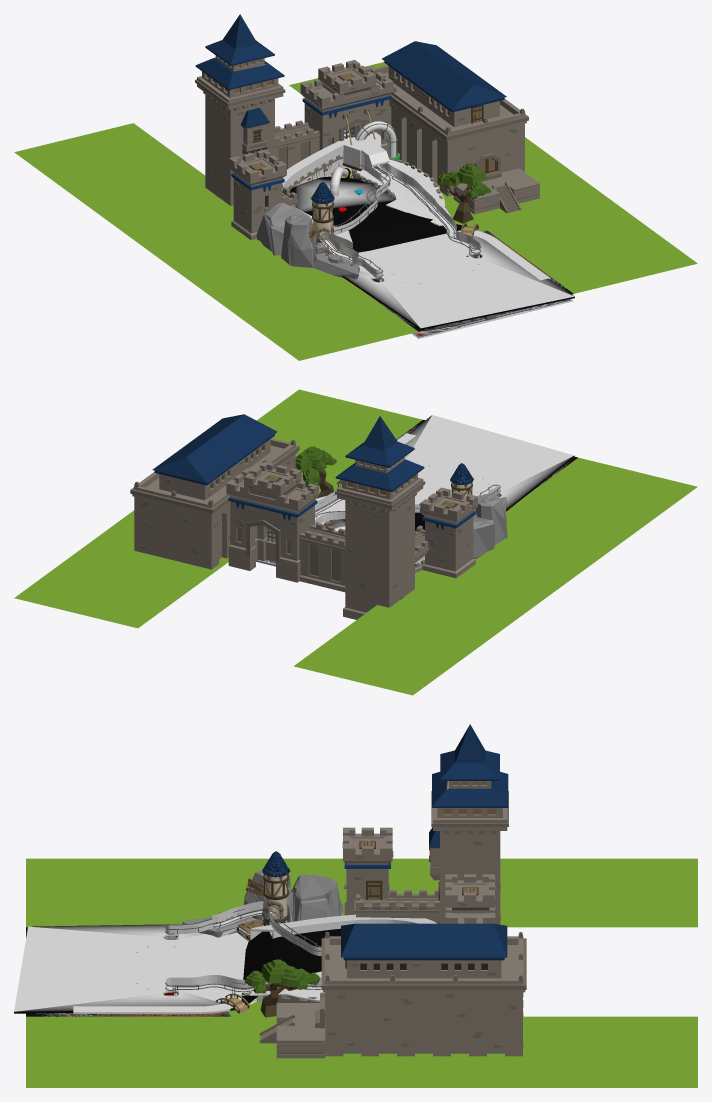
File: Pinball.glb
3 renders of one model, top to bottom at view 1: azimuth 30°, elevation 25°; view 2: azimuth 150°, elevation 25°; view 3: azimuth 270°, elevation 25°, orthographic. The views are drawn at different scales.
Parts seen in each view (by area): view 1: visual_field, visual_castle, coll_glass_panel.001, visual_mine, coll_ramp_back_test, coll_faquir_glass_panel.001, coll_visual_habit_right_9_top, visual_tree, coll_visual_habit_right_left_9_top.002, visual_playfield_left_hole, coll_sidewalls.001, visual_habit_right_left_9_top.002 (+3 smaller); view 2: visual_field, visual_castle, coll_glass_panel.001, visual_mine, visual_tree; view 3: visual_field, visual_castle, coll_glass_panel.001, visual_mine, visual_tree, coll_ramp_back_test, coll_visual_habit_right_left_9_top.002, coll_sidewalls.001, coll_visual_habit_right_9_top, visual_standard, visual_habit_right_left_9_top.002.
Boxes of the visible parts, <box> form: visual_field: <box>14,62,697,360</box>; visual_castle: <box>195,14,539,239</box>; coll_glass_panel.001: <box>290,176,574,329</box>; visual_mine: <box>256,182,359,279</box>; coll_ramp_back_test: <box>282,132,389,248</box>; coll_faquir_glass_panel.001: <box>357,159,450,226</box>; coll_visual_habit_right_9_top: <box>372,163,480,250</box>; visual_tree: <box>438,163,491,223</box>; coll_visual_habit_right_left_9_top.002: <box>320,152,389,276</box>; visual_playfield_left_hole: <box>336,195,573,338</box>; coll_sidewalls.001: <box>457,230,550,280</box>; visual_habit_right_left_9_top.002: <box>319,165,390,277</box>; visual_field: <box>14,389,697,695</box>; visual_castle: <box>130,414,477,619</box>; coll_glass_panel.001: <box>325,415,574,531</box>; visual_mine: <box>450,463,507,558</box>; visual_tree: <box>295,446,336,498</box>; visual_field: <box>26,858,697,1087</box>; visual_castle: <box>215,724,526,1058</box>; coll_glass_panel.001: <box>14,924,340,1013</box>; visual_mine: <box>182,851,343,940</box>; visual_tree: <box>244,959,319,1017</box>; coll_ramp_back_test: <box>250,914,436,939</box>; coll_visual_habit_right_left_9_top.002: <box>166,901,321,956</box>; coll_sidewalls.001: <box>73,997,256,1013</box>; coll_visual_habit_right_9_top: <box>166,975,322,992</box>; visual_standard: <box>26,927,276,1016</box>; visual_habit_right_left_9_top.002: <box>165,906,321,951</box>.
Size of what is drawn, in the model's own units: 77.18 by 40.98 by 97.28.
94 materials, 38 textured.
